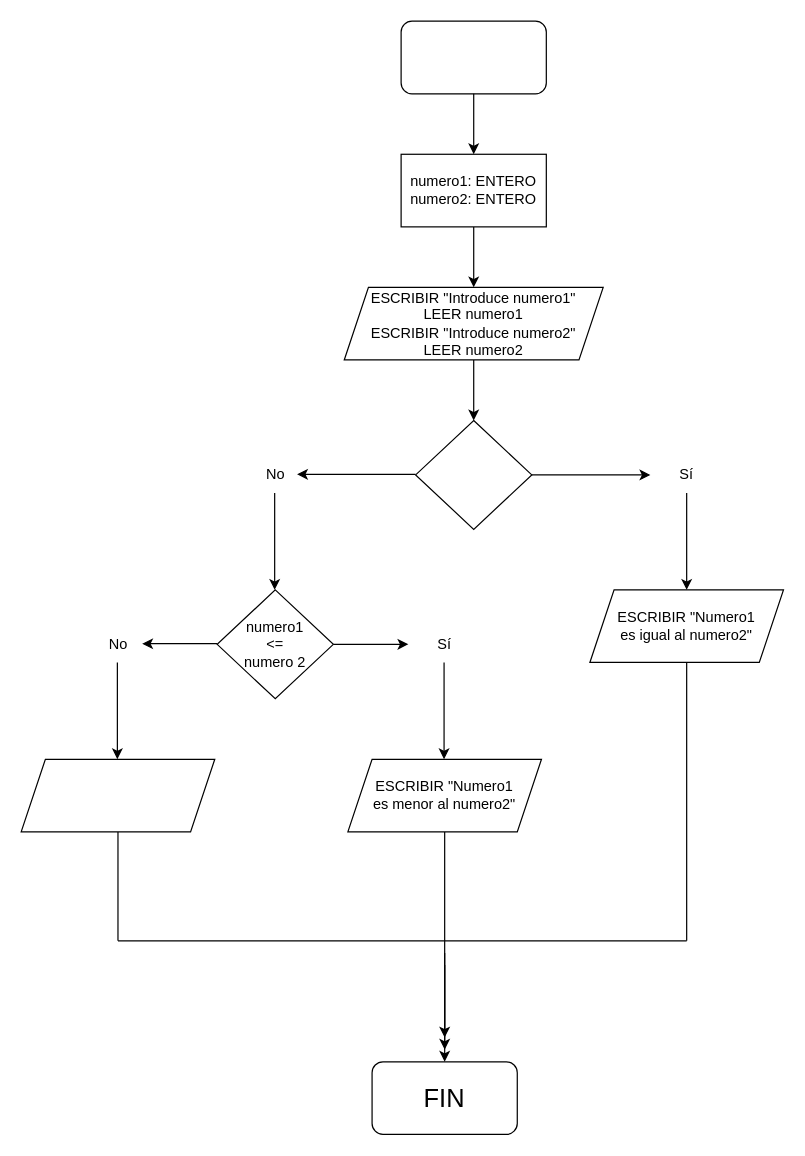
Image size: 805x1156. Some labels were removed from this diagram. Here are the shapes that lost their labels. From the top down, the centre of each, then its label:
pixel 473 57: INICIO
pixel 473 474: numero1 == numero 2
pixel 117 795: ESCRIBIR "Numero1 es mayor al numero2"
